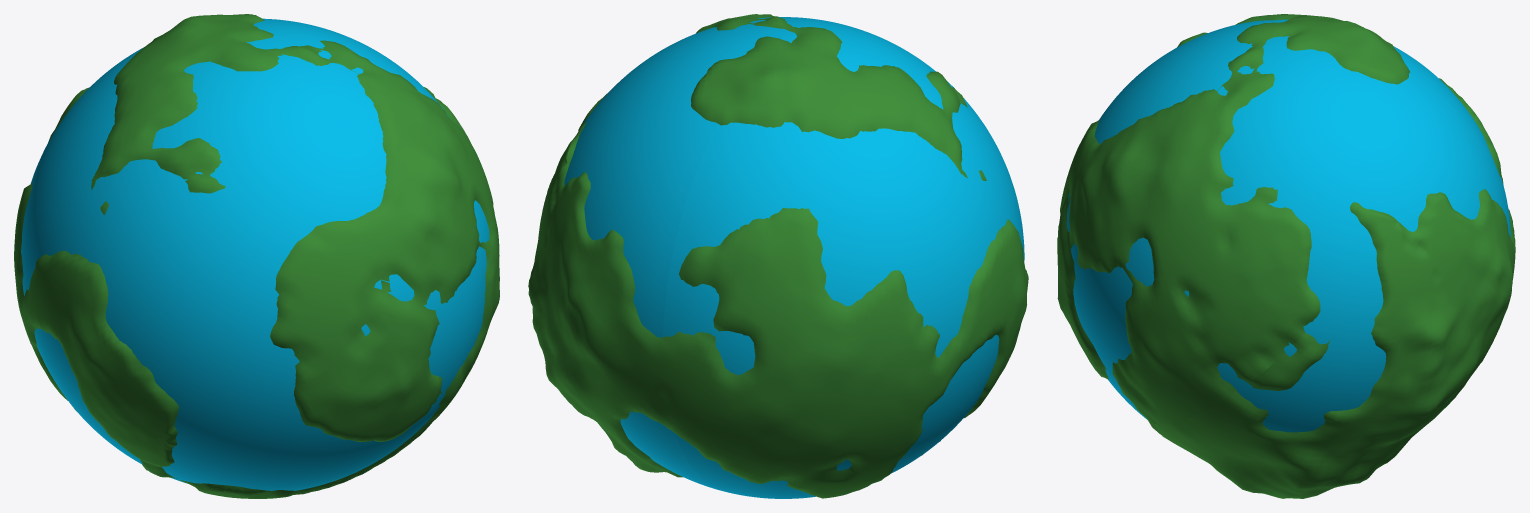
Rendered from world_base.fbx.
3 views of the same model, side by side, from view 1: azimuth 30°, elevation 25°; view 2: azimuth 150°, elevation 25°; view 3: azimuth 270°, elevation 25° (orthographic). The views are drawn at different scales.
Parts seen in each view (by area): view 1: Landscape_plane, Landscape; view 2: Landscape, Landscape_plane; view 3: Landscape, Landscape_plane.
Boxes of the visible parts, x1,y1,x2,y2 form: Landscape_plane: [21, 18, 489, 490]; Landscape: [14, 14, 499, 498]; Landscape: [528, 14, 1028, 498]; Landscape_plane: [564, 17, 1024, 498]; Landscape: [1057, 14, 1515, 498]; Landscape_plane: [1066, 19, 1510, 432].
Bounding box in the file's own units: 200 × 201 × 200.
